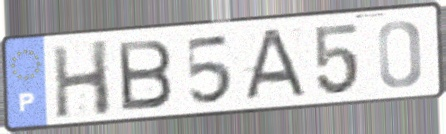0: (375, 17, 424, 90)
5: (183, 31, 235, 106), (311, 20, 362, 96)
A: (238, 26, 311, 103)
B: (115, 37, 176, 114)
H: (49, 37, 114, 120)
